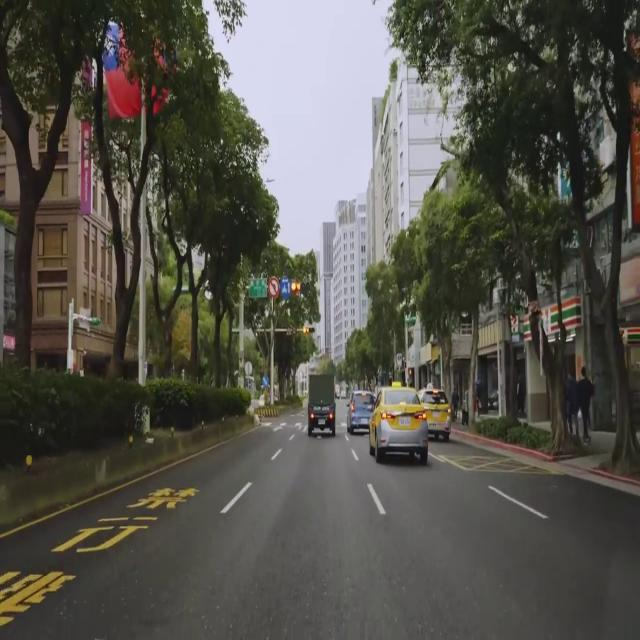red light: (290, 282, 310, 293), (302, 326, 316, 334)
